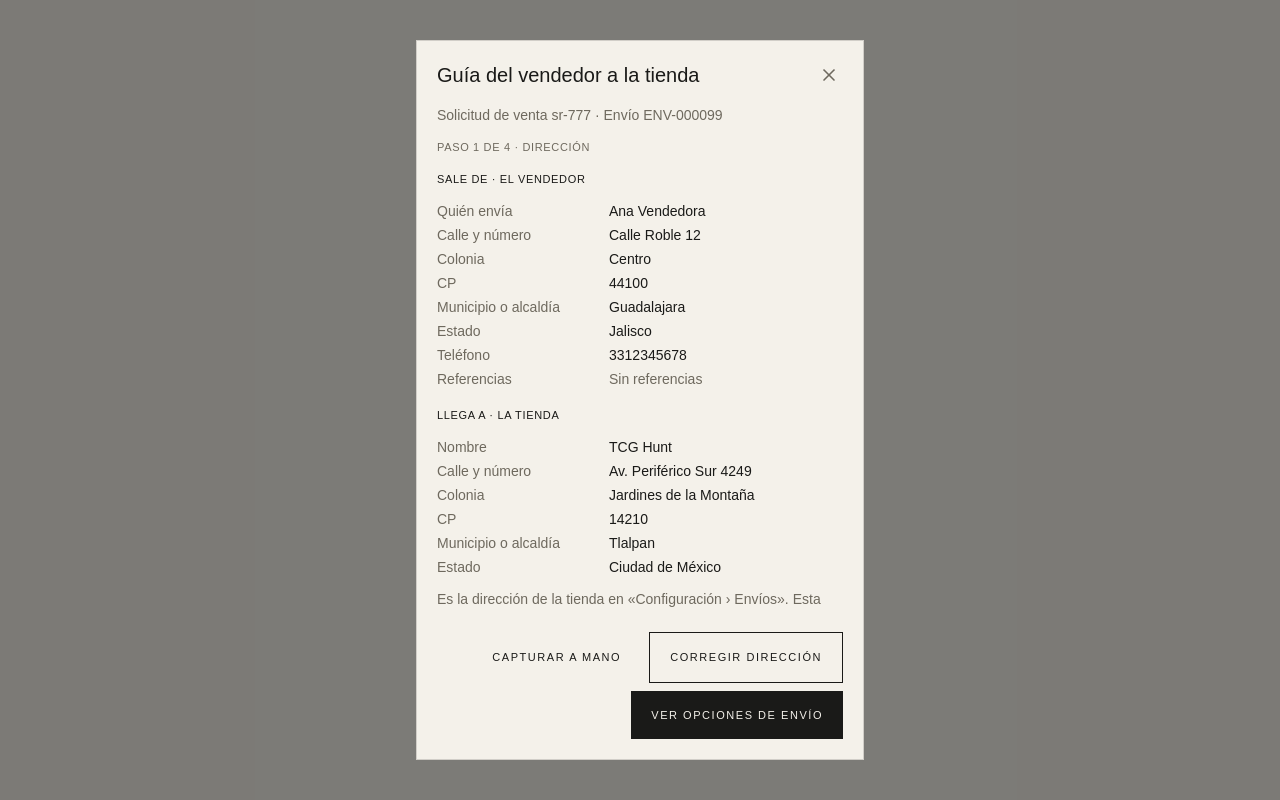
Test: §BSD-UX.5d · errores propios del modo entrada › `409 SHIPPING_PROVIDER_NOT_CONFIGURED {missing:['origin_snapshot']}` ⇒ la dirección de la tienda falta; «Capturar a mano» primaria
Click the button "Ver opciones de envío" at (737, 715), box [631, 690, 843, 739]
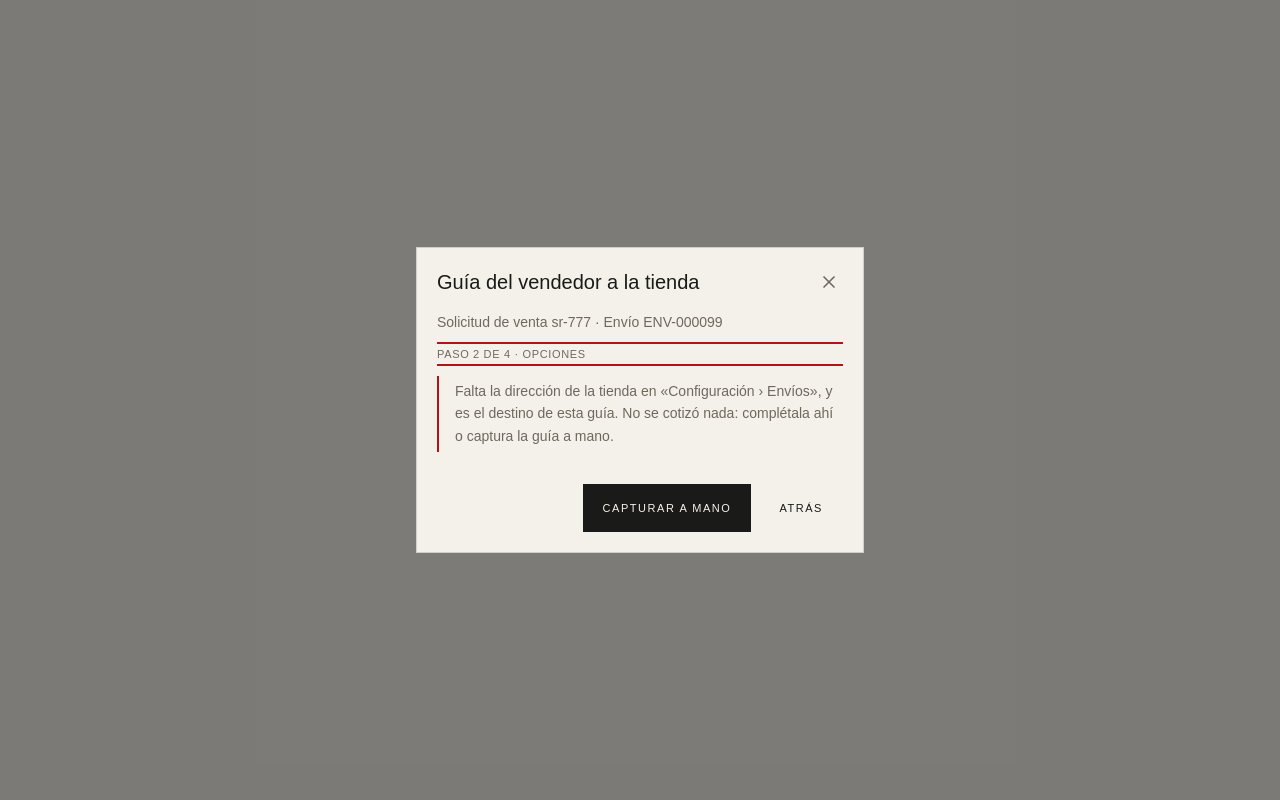
Now the text "Falta la dirección de la tienda en «Configuración › Envíos», y es el destino de esta guía" is shown, box [455, 383, 833, 444]
